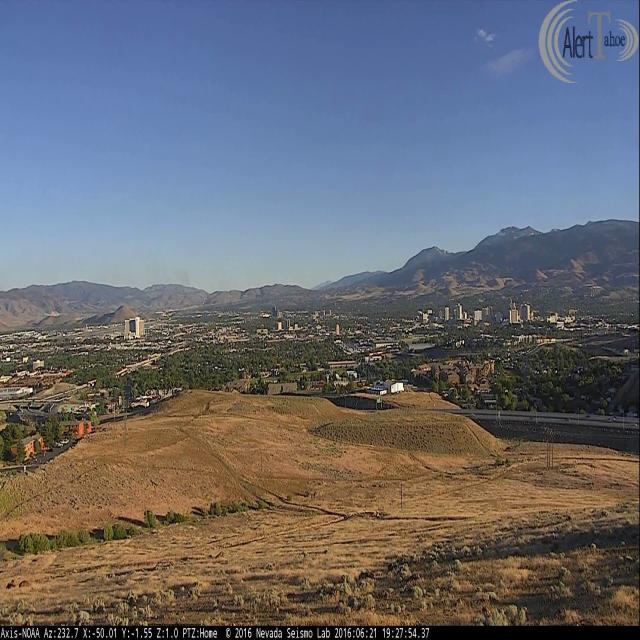smoke: (146, 256, 196, 308)
